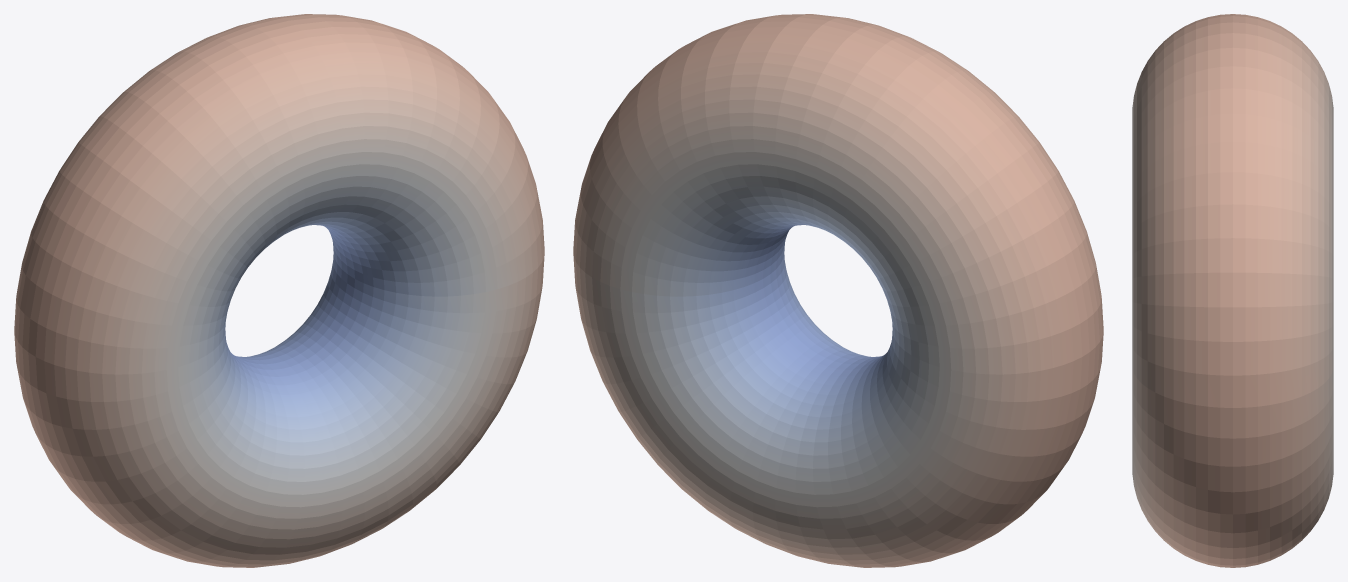
3 views of the same model, side by side, from view 1: azimuth 30°, elevation 25°; view 2: azimuth 150°, elevation 25°; view 3: azimuth 270°, elevation 25° (orthographic). The views are drawn at different scales.
Visible parts, largest first — view 1: world; view 2: world; view 3: world.
Part boxes in pixels (bbox=[...]): world: bbox=[14, 14, 544, 567]; world: bbox=[573, 14, 1103, 567]; world: bbox=[1132, 14, 1333, 567].
Bounding box in the file's own units: 23.07 × 23.02 × 8.38.
